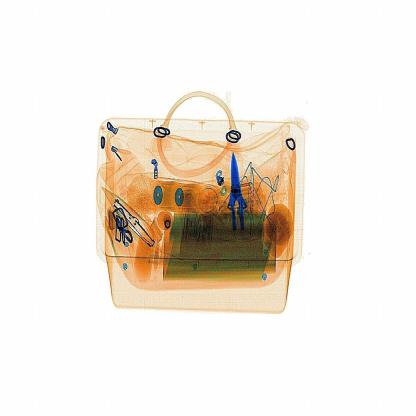gun: (216, 145, 265, 244)
